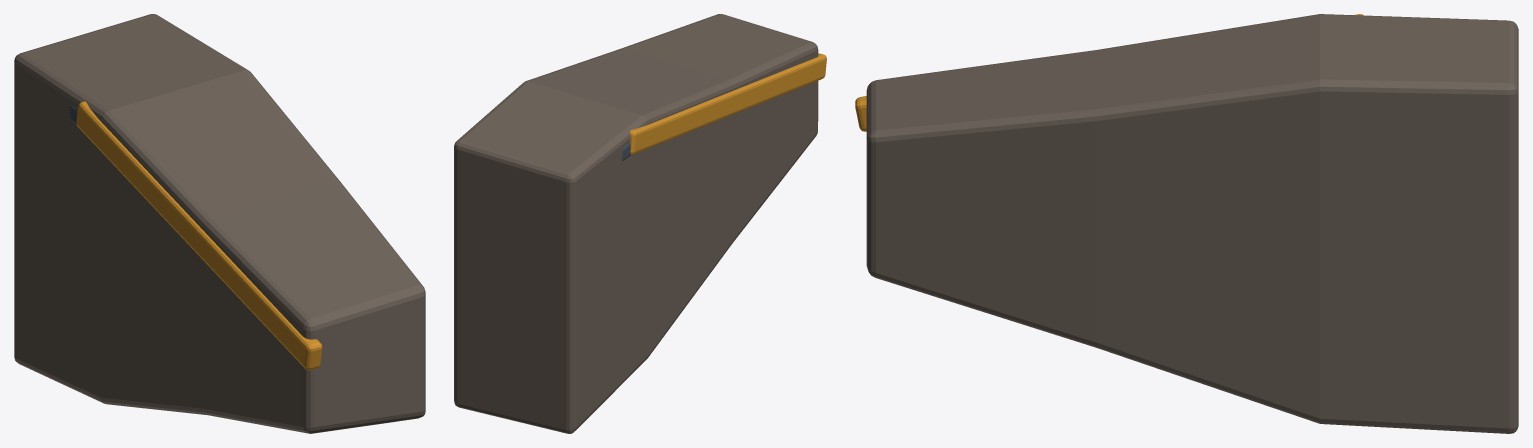
File: SM_MineRampCliffJoin_R.fbx
3 renders of one model, left to right at view 1: azimuth 30°, elevation 25°; view 2: azimuth 150°, elevation 25°; view 3: azimuth 270°, elevation 25°, orthographic. The views are drawn at different scales.
Parts seen in each view (by area): view 1: SM_MineRampCliffJoin_R.001; view 2: SM_MineRampCliffJoin_R.001; view 3: SM_MineRampCliffJoin_R.001.
Boxes of the visible parts, x1,y1,x2,y2 form: SM_MineRampCliffJoin_R.001: (14,14,425,433); SM_MineRampCliffJoin_R.001: (454,14,826,433); SM_MineRampCliffJoin_R.001: (855,14,1518,433).
Bounding box in the file's own units: 534 × 158 × 317.
